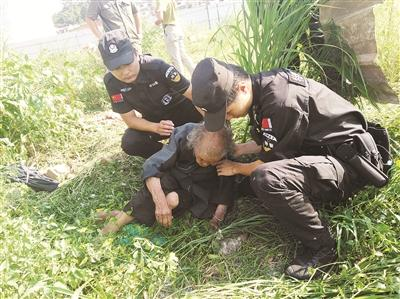fall: (102, 112, 248, 250)
